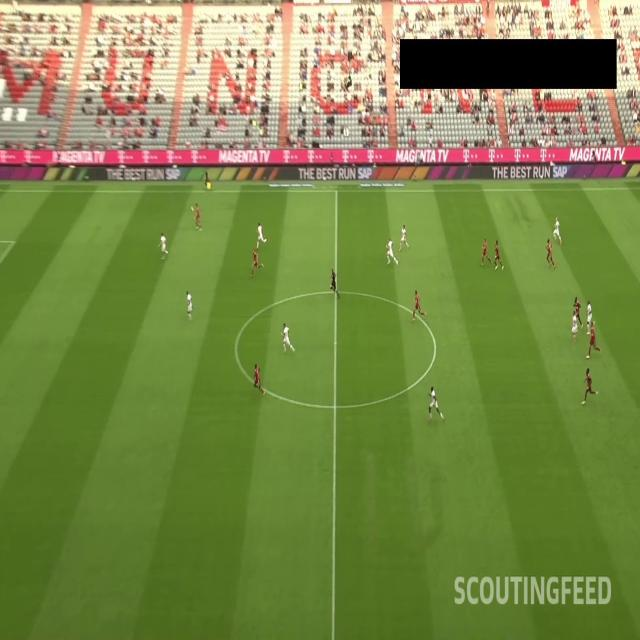ball: (191, 202, 194, 212)
player: (427, 383, 445, 426), (581, 366, 599, 406), (585, 320, 602, 361), (410, 288, 427, 324), (249, 247, 265, 280), (280, 322, 296, 354), (384, 236, 400, 268), (255, 220, 269, 253), (252, 364, 266, 397), (493, 236, 505, 274), (479, 235, 492, 270), (585, 299, 597, 336), (158, 231, 171, 263), (544, 236, 556, 270), (573, 295, 584, 332), (184, 288, 195, 324), (398, 222, 410, 252), (552, 215, 563, 246), (571, 308, 580, 345), (193, 200, 203, 233)
referee: (329, 268, 341, 302), (204, 169, 212, 192)
